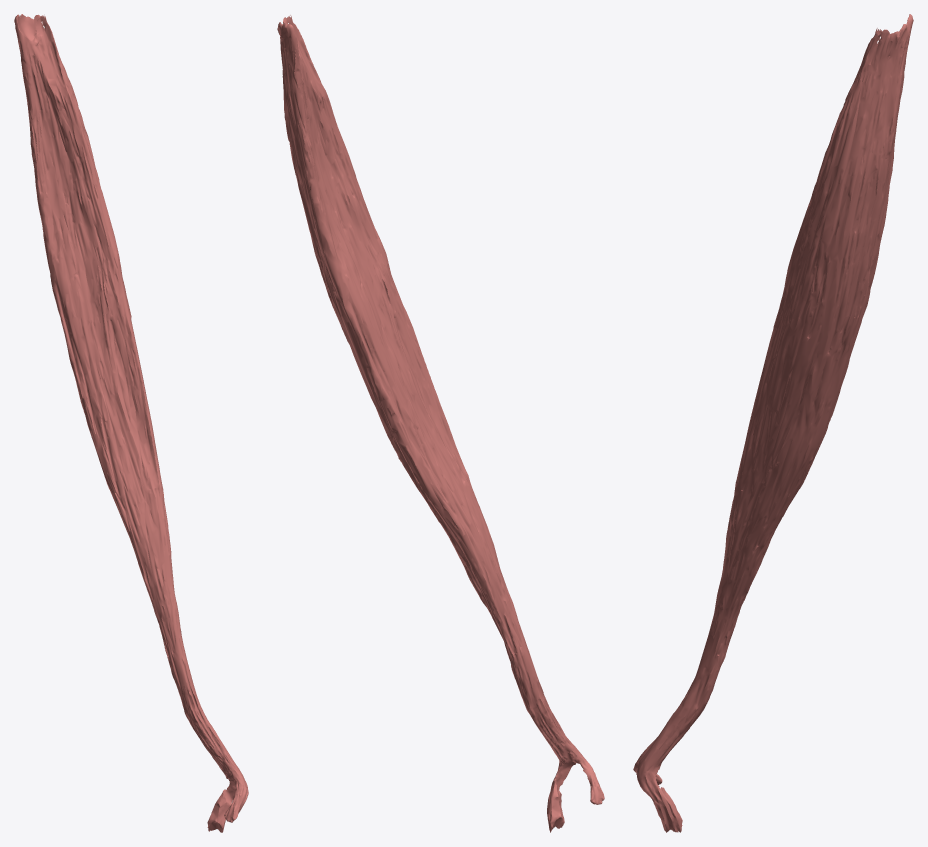
File: fma38617.glb
The picture shows the model from 3 angles, left to right: view 1: azimuth 90°, elevation 25°; view 2: azimuth 150°, elevation 25°; view 3: azimuth 270°, elevation 25°; orthographic projection. The views are drawn at different scales.
Parts seen in each view (by area): view 1: FMA38617; view 2: FMA38617; view 3: FMA38617.
Boxes of the visible parts, box(x1,y1,x2,y2) form: FMA38617: box(14, 14, 248, 832); FMA38617: box(277, 15, 604, 832); FMA38617: box(633, 14, 913, 832).
Size of the model in its own units: 0.0687 by 0.2671 by 0.0756.
